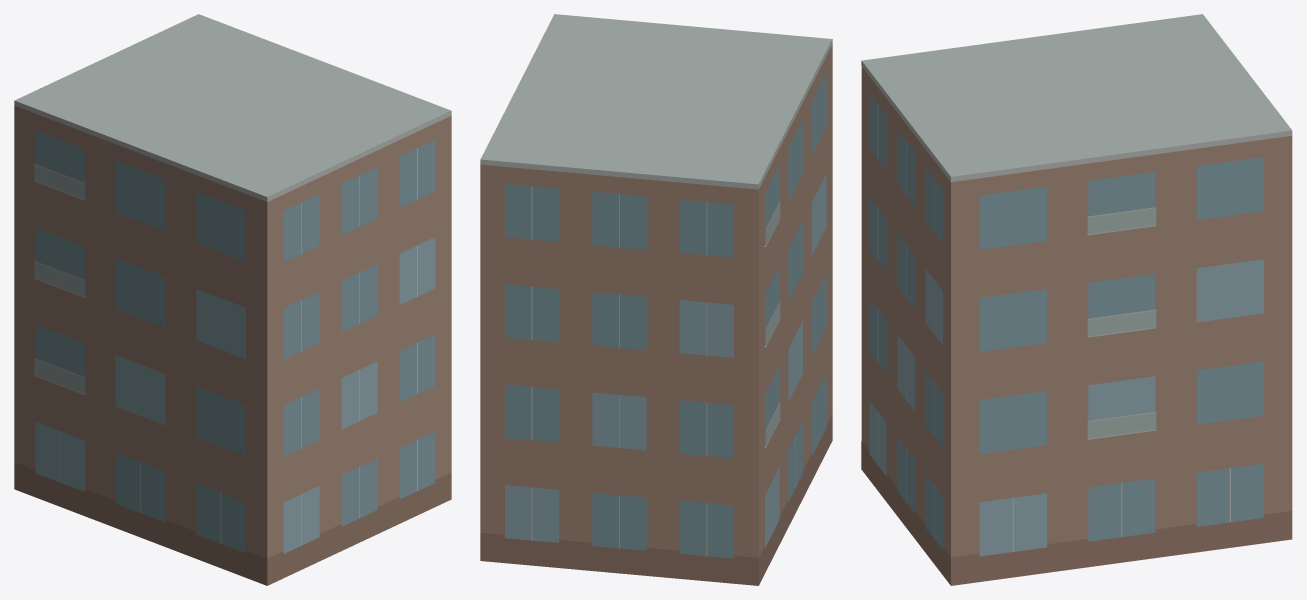
The model's file is survey-upis-32596755.glb.
3 views of the same model, side by side, from view 1: azimuth 30°, elevation 25°; view 2: azimuth 150°, elevation 25°; view 3: azimuth 270°, elevation 25° (orthographic). The views are drawn at different scales.
Parts seen in each view (by area): view 1: survey-upis-32596755.tmp; view 2: survey-upis-32596755.tmp; view 3: survey-upis-32596755.tmp.
Part boxes in pixels (x1,y1,x2,y2): survey-upis-32596755.tmp: [14, 14, 451, 585]; survey-upis-32596755.tmp: [480, 14, 832, 585]; survey-upis-32596755.tmp: [861, 14, 1292, 585].
Bounding box in the file's own units: 16.29 × 19.05 × 18.2.
